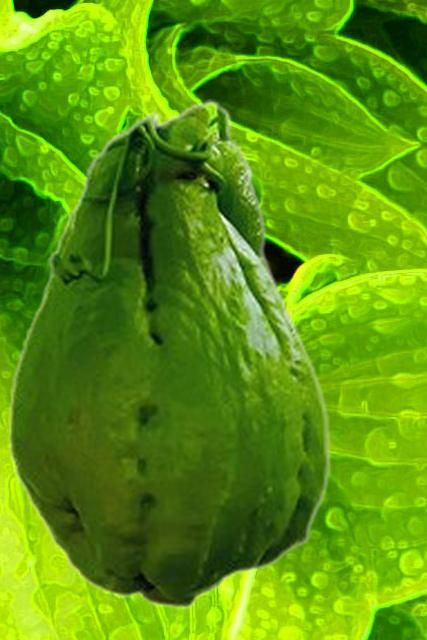sayote: (7, 99, 331, 609)
